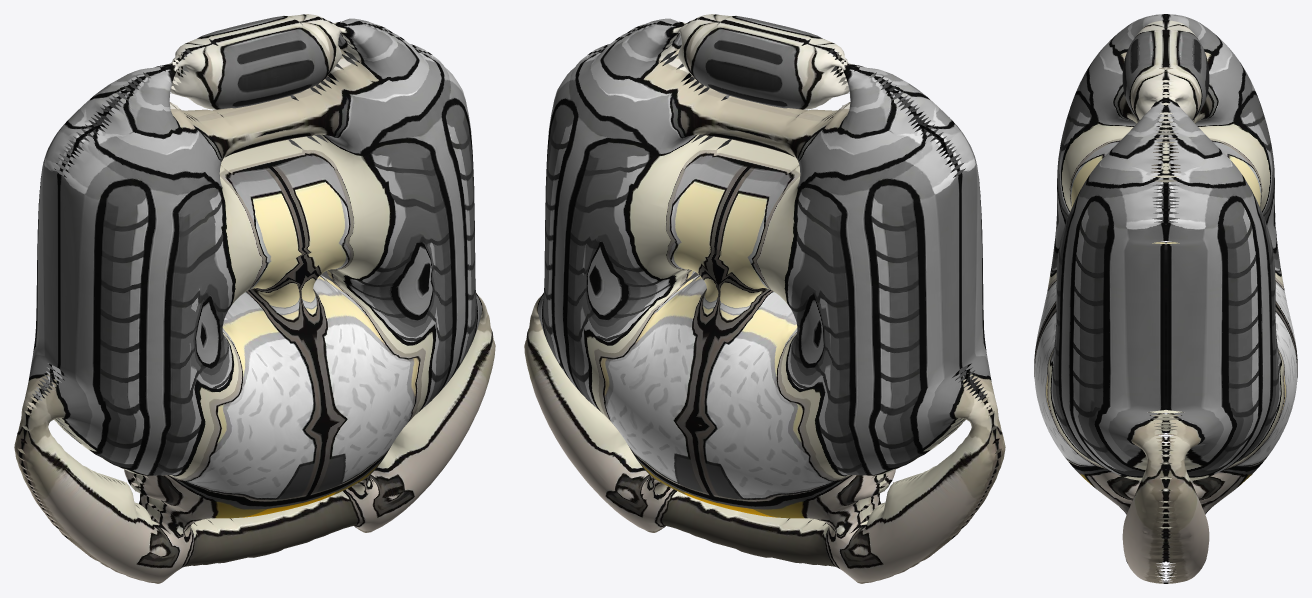
Rendered from north_airlock.glb.
The picture shows the model from 3 angles, left to right: view 1: azimuth 30°, elevation 25°; view 2: azimuth 150°, elevation 25°; view 3: azimuth 270°, elevation 25°; orthographic projection. The views are drawn at different scales.
Parts seen in each view (by area): view 1: north_airlock; view 2: north_airlock; view 3: north_airlock.
Boxes of the visible parts, <box> form: north_airlock: <box>14,14,495,583</box>; north_airlock: <box>524,14,1005,583</box>; north_airlock: <box>1034,14,1297,583</box>.
Size of the model in its own units: 0.9878 by 1.05 by 0.5156.
Materials: 1 (1 with a texture image).
